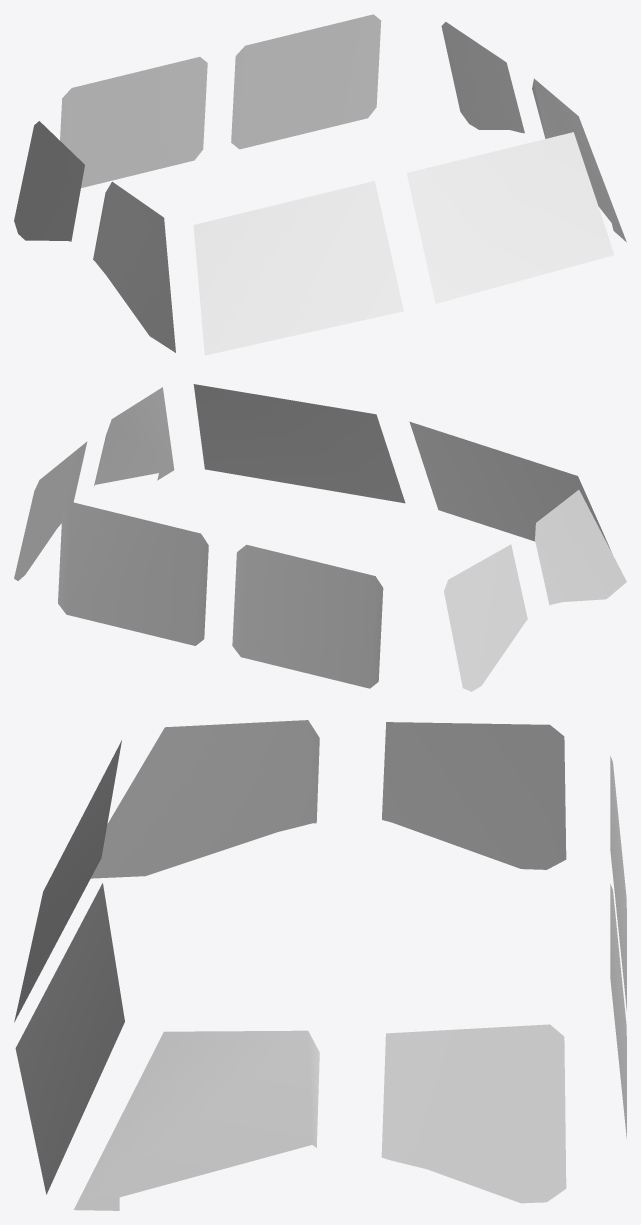
3 renders of one model, top to bottom at view 1: azimuth 30°, elevation 25°; view 2: azimuth 150°, elevation 25°; view 3: azimuth 270°, elevation 25°, orthographic. The views are drawn at different scales.
Bounding box in the file's own units: 2.52 × 0.6235 × 1.95.
Materials: 1 (1 with a texture image).
